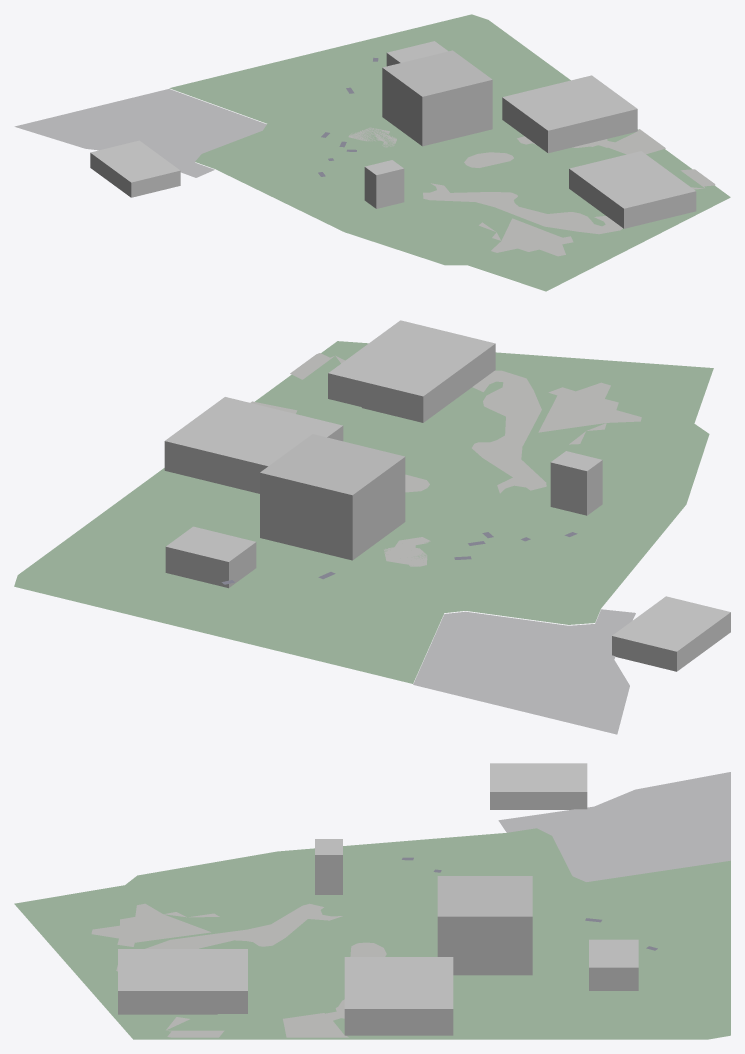
File: 98_110_mid.glb
3 renders of one model, top to bottom at view 1: azimuth 30°, elevation 25°; view 2: azimuth 150°, elevation 25°; view 3: azimuth 270°, elevation 25°, orthographic. The views are drawn at different scales.
Size of the model in its own units: 306 by 32.41 by 346.
